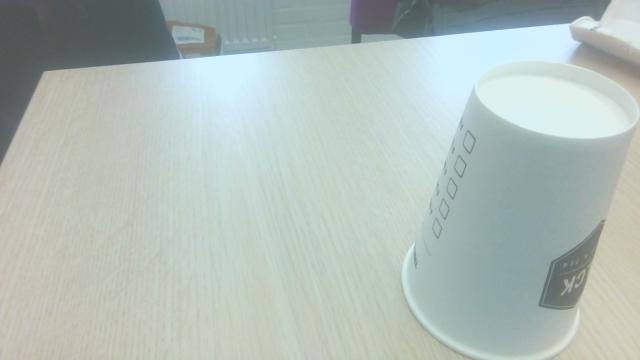cup: (396, 56, 640, 360)
